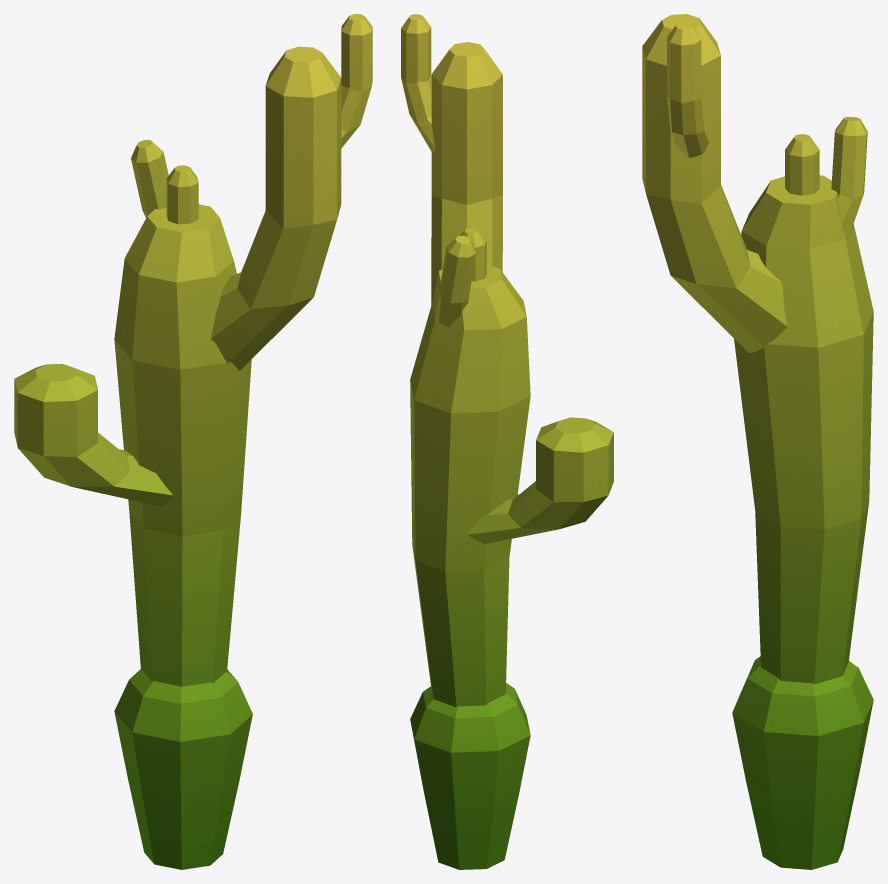
The model's file is M_cactus_C.fbx.
The picture shows the model from 3 angles, left to right: view 1: azimuth 30°, elevation 25°; view 2: azimuth 150°, elevation 25°; view 3: azimuth 270°, elevation 25°; orthographic projection. The views are drawn at different scales.
Parts seen in each view (by area): view 1: cactus_C; view 2: cactus_C; view 3: cactus_C.
Part boxes in pixels (box(x1,y1,x2,y2)): cactus_C: box(14, 14, 372, 869); cactus_C: box(401, 14, 613, 869); cactus_C: box(642, 14, 873, 869).
Bounding box in the file's own units: 305 × 856 × 203.
